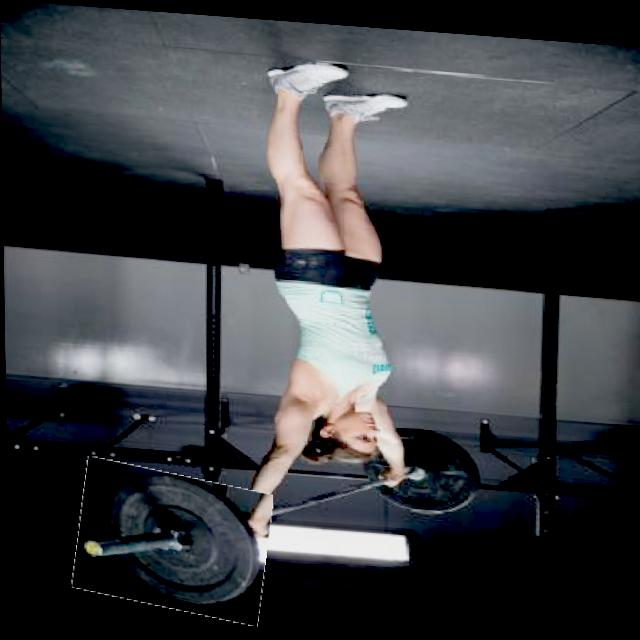barbell: (73, 460, 270, 618)
